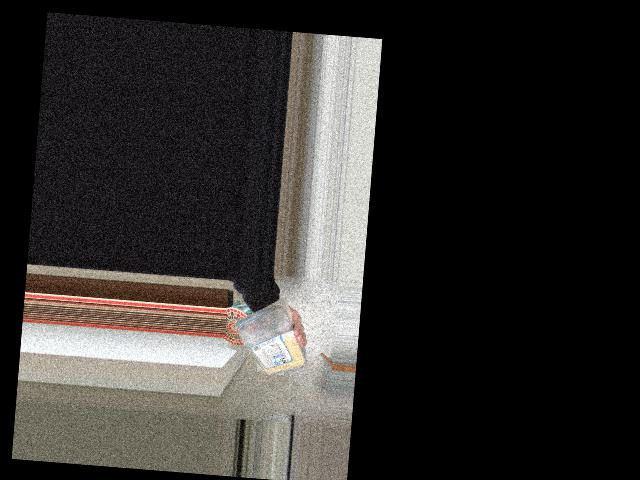cheese: (230, 304, 302, 383)
